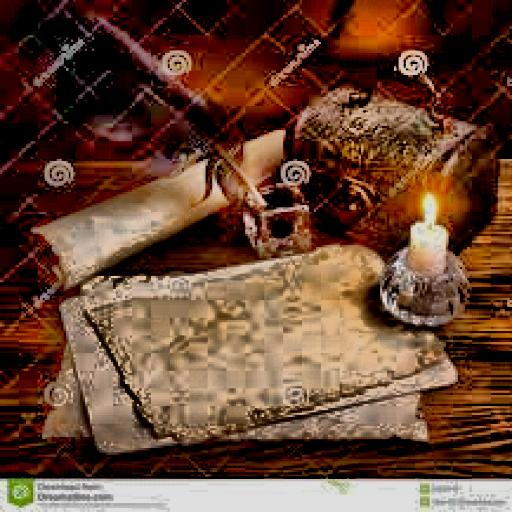fire: (413, 190, 441, 227)
